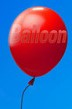Balloon: (9, 6, 68, 77)
